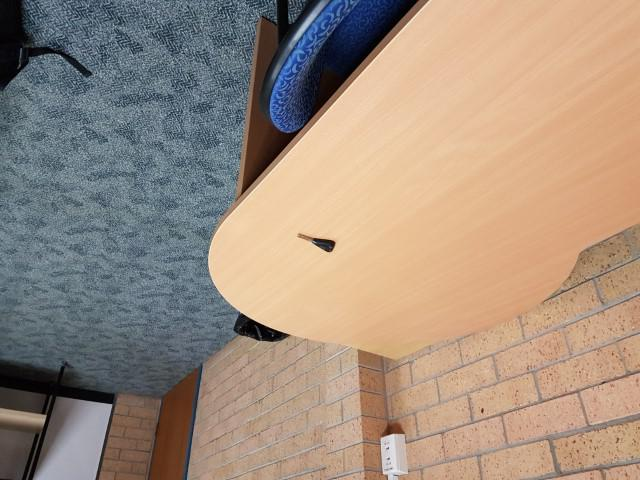key: (296, 230, 339, 255)
